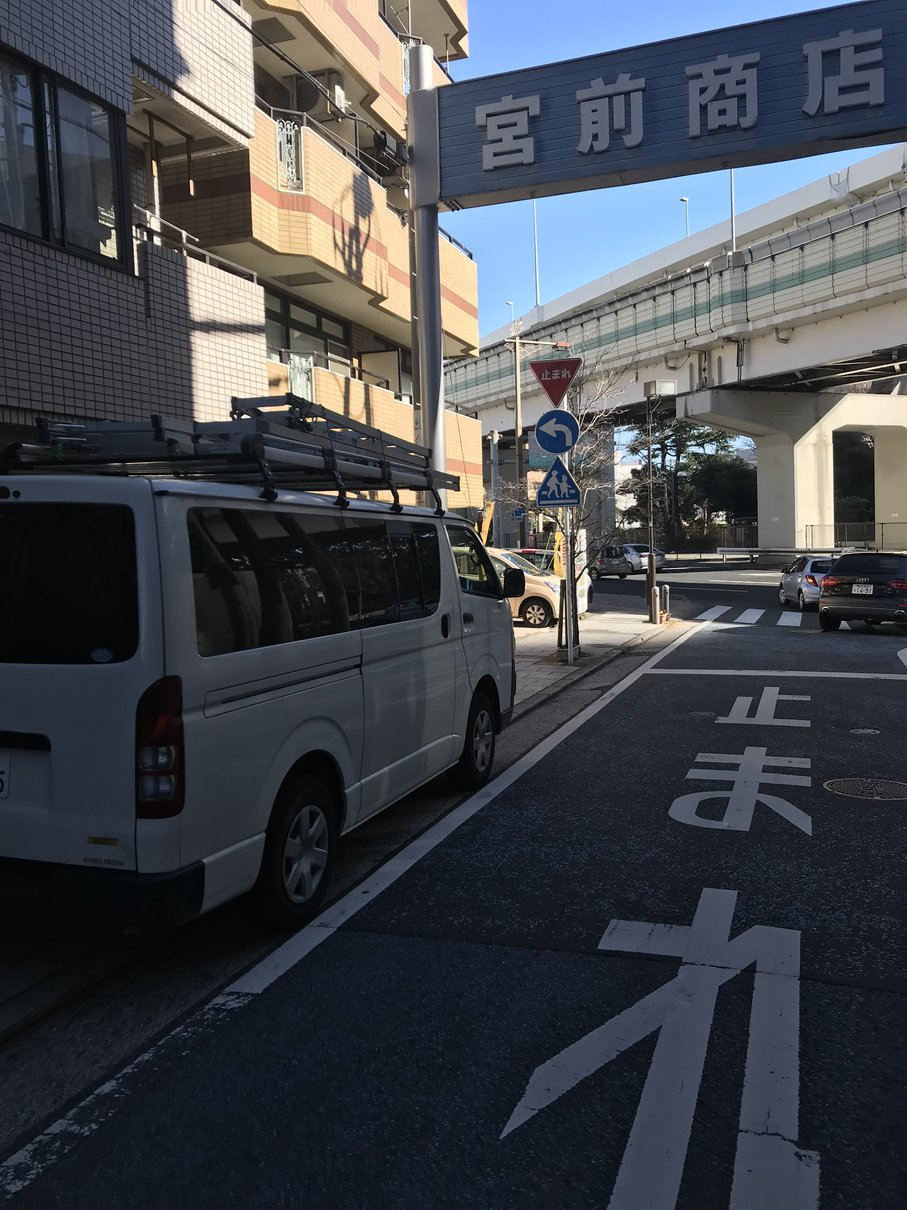stop_sign: (525, 356, 584, 409)
